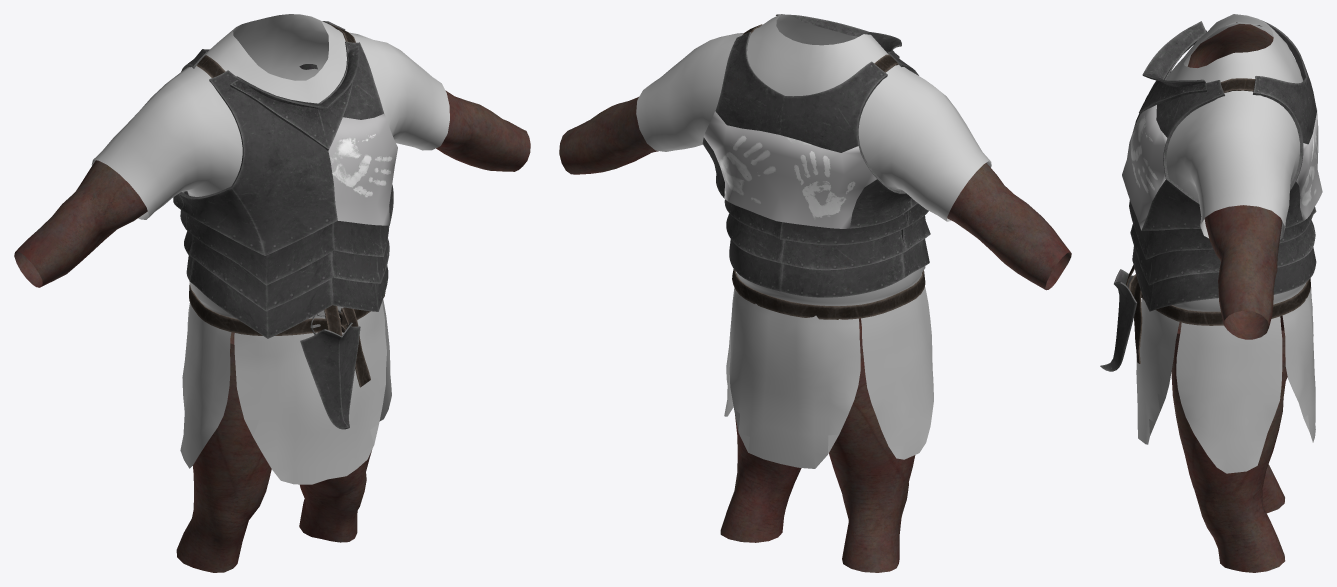
The model's file is sk_uruk_hai_plate_elite_b2.fbx.
3 renders of one model, left to right at view 1: azimuth 30°, elevation 25°; view 2: azimuth 150°, elevation 25°; view 3: azimuth 270°, elevation 25°, orthographic. The views are drawn at different scales.
Visible parts, largest first — view 1: sk_uruk_hai_plate_elite_b2.3, sk_uruk_hai_plate_elite_b2.1, sk_uruk_hai_plate_elite_b2.body.0, sk_uruk_hai_plate_elite_b2.body.1, sk_uruk_hai_plate_elite_b2.2, sk_uruk_hai_plate_elite_b2.0; view 2: sk_uruk_hai_plate_elite_b2.3, sk_uruk_hai_plate_elite_b2.1, sk_uruk_hai_plate_elite_b2.body.0, sk_uruk_hai_plate_elite_b2.body.1, sk_uruk_hai_plate_elite_b2.2, sk_uruk_hai_plate_elite_b2.0; view 3: sk_uruk_hai_plate_elite_b2.3, sk_uruk_hai_plate_elite_b2.1, sk_uruk_hai_plate_elite_b2.body.0, sk_uruk_hai_plate_elite_b2.body.1, sk_uruk_hai_plate_elite_b2.2, sk_uruk_hai_plate_elite_b2.0.
Part boxes in pixels (x1,y1,x2,y2): sk_uruk_hai_plate_elite_b2.3: (91, 14, 449, 484); sk_uruk_hai_plate_elite_b2.1: (173, 21, 393, 429); sk_uruk_hai_plate_elite_b2.body.0: (176, 332, 371, 572); sk_uruk_hai_plate_elite_b2.body.1: (14, 90, 530, 287); sk_uruk_hai_plate_elite_b2.2: (328, 113, 397, 225); sk_uruk_hai_plate_elite_b2.0: (189, 24, 385, 387); sk_uruk_hai_plate_elite_b2.3: (636, 14, 991, 468); sk_uruk_hai_plate_elite_b2.1: (702, 14, 930, 297); sk_uruk_hai_plate_elite_b2.body.0: (720, 318, 915, 572); sk_uruk_hai_plate_elite_b2.body.1: (559, 97, 1071, 290); sk_uruk_hai_plate_elite_b2.2: (703, 111, 876, 228); sk_uruk_hai_plate_elite_b2.0: (732, 24, 925, 319); sk_uruk_hai_plate_elite_b2.3: (1136, 14, 1315, 473); sk_uruk_hai_plate_elite_b2.1: (1100, 20, 1316, 371); sk_uruk_hai_plate_elite_b2.body.0: (1171, 315, 1287, 572); sk_uruk_hai_plate_elite_b2.body.1: (1187, 24, 1282, 339); sk_uruk_hai_plate_elite_b2.2: (1122, 105, 1322, 230); sk_uruk_hai_plate_elite_b2.0: (1126, 22, 1310, 363).
Bounding box in the file's own units: 1.2 × 0.4786 × 1.19.
